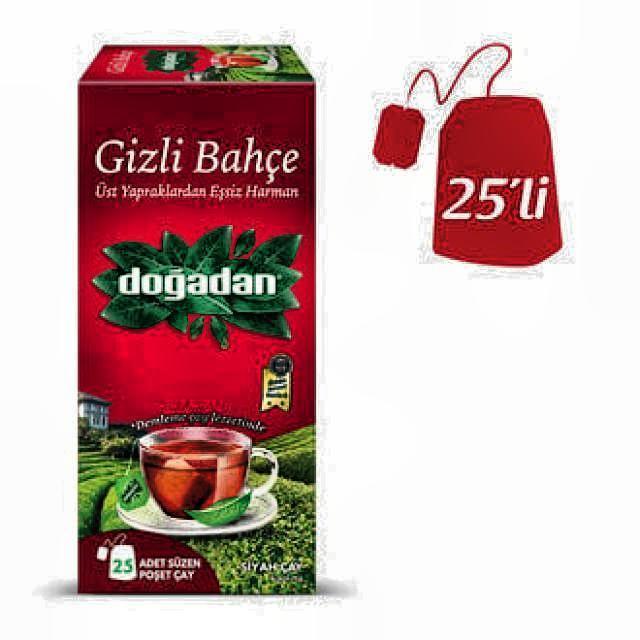cardboard: (76, 43, 316, 596)
